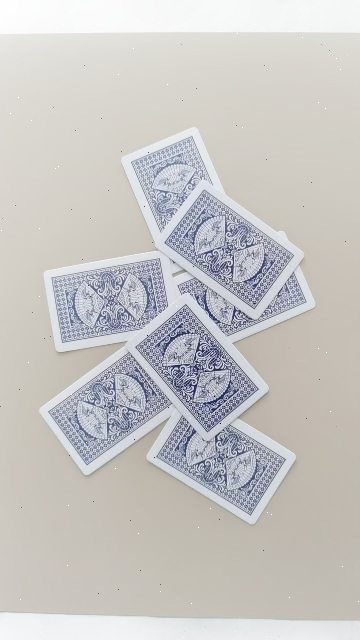card: (126, 294, 269, 440), (155, 181, 304, 319), (40, 348, 175, 475), (146, 410, 295, 524), (44, 251, 178, 352), (121, 128, 224, 239), (174, 266, 315, 342)
